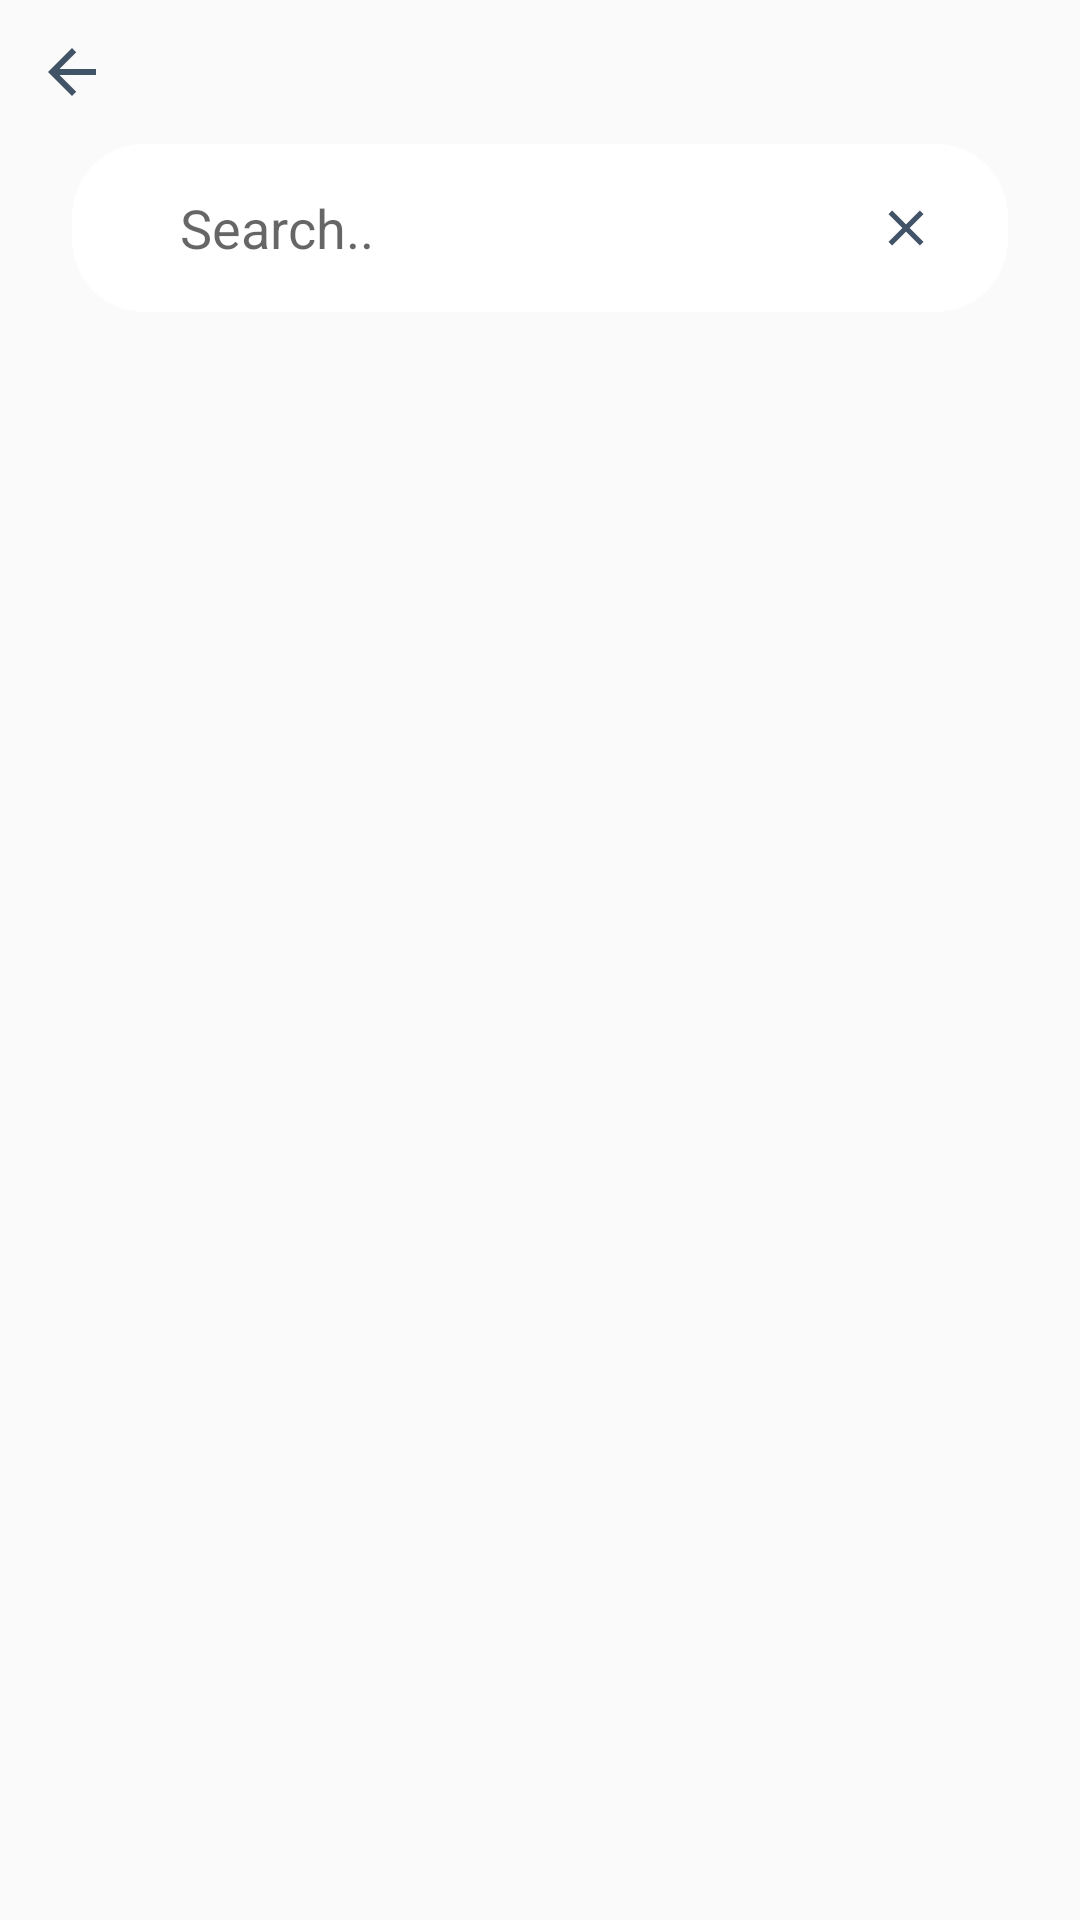

Locate icon controls on the screen. Image size 1080px×1920px, boxes as box=[x1, y1, x2, y2].
back: box=[48, 48, 96, 96]
close: box=[888, 210, 924, 246]
